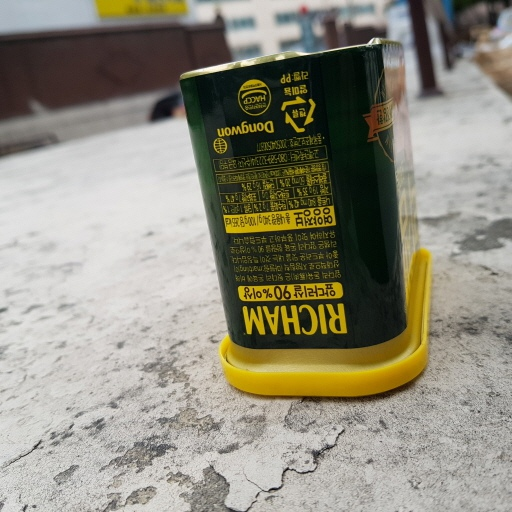Metal_2: (170, 35, 432, 406)
